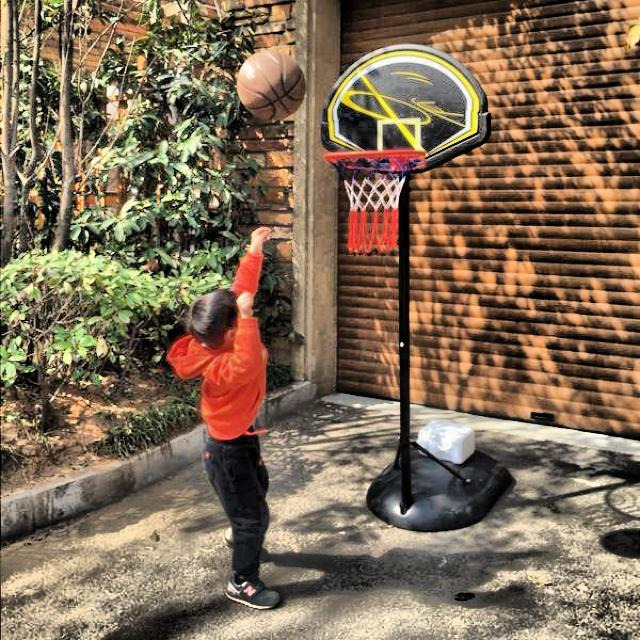board: (236, 50, 310, 123)
rim: (322, 151, 432, 253)
